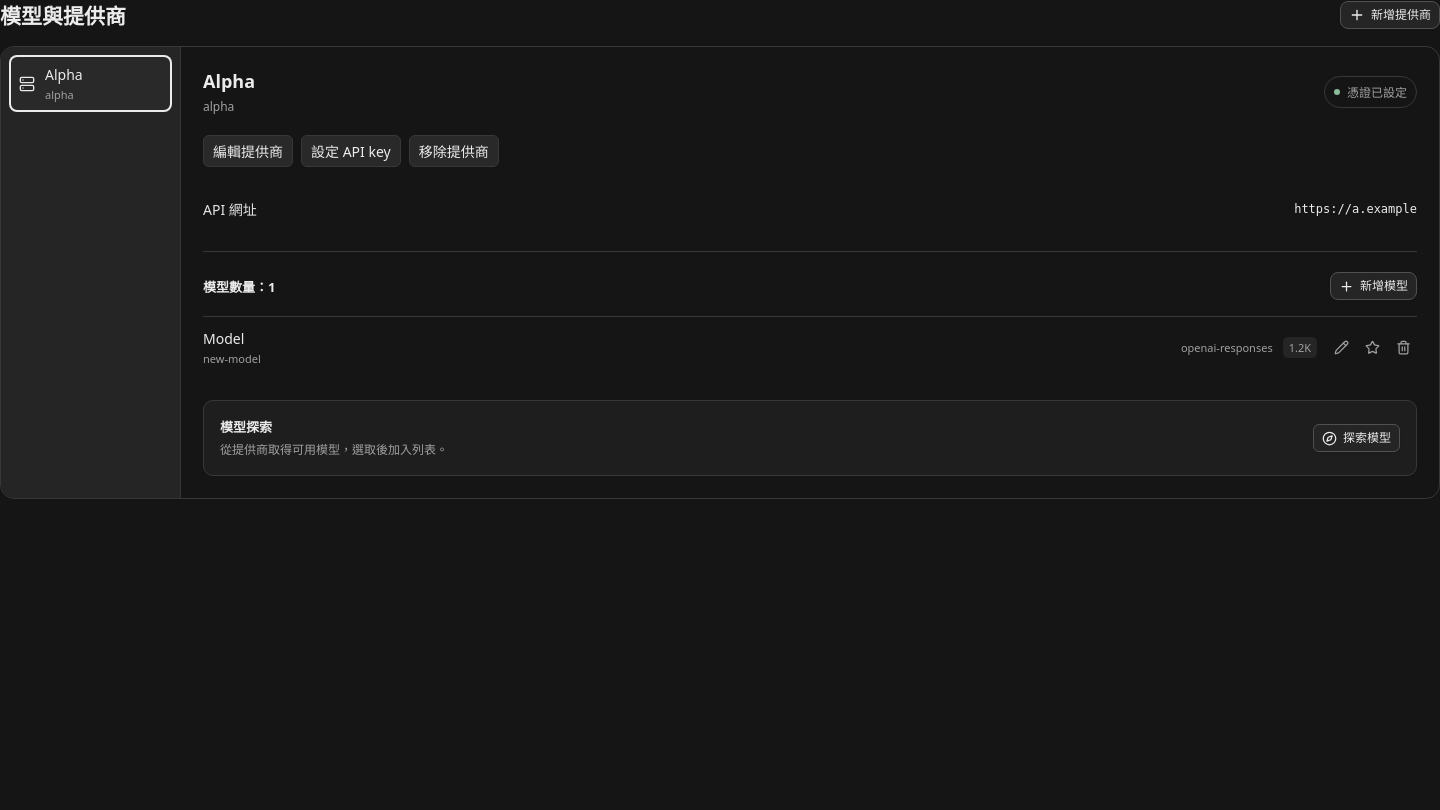
Test: separates a new model draft from an existing model with the same editor label
This screenshot has width=1440, height=810.
Check: the text "new-model" is shown, box 203,351 -> 261,366
Step 1. Click the button "新增模型" → (1374, 286), box 1330,272 -> 1417,300
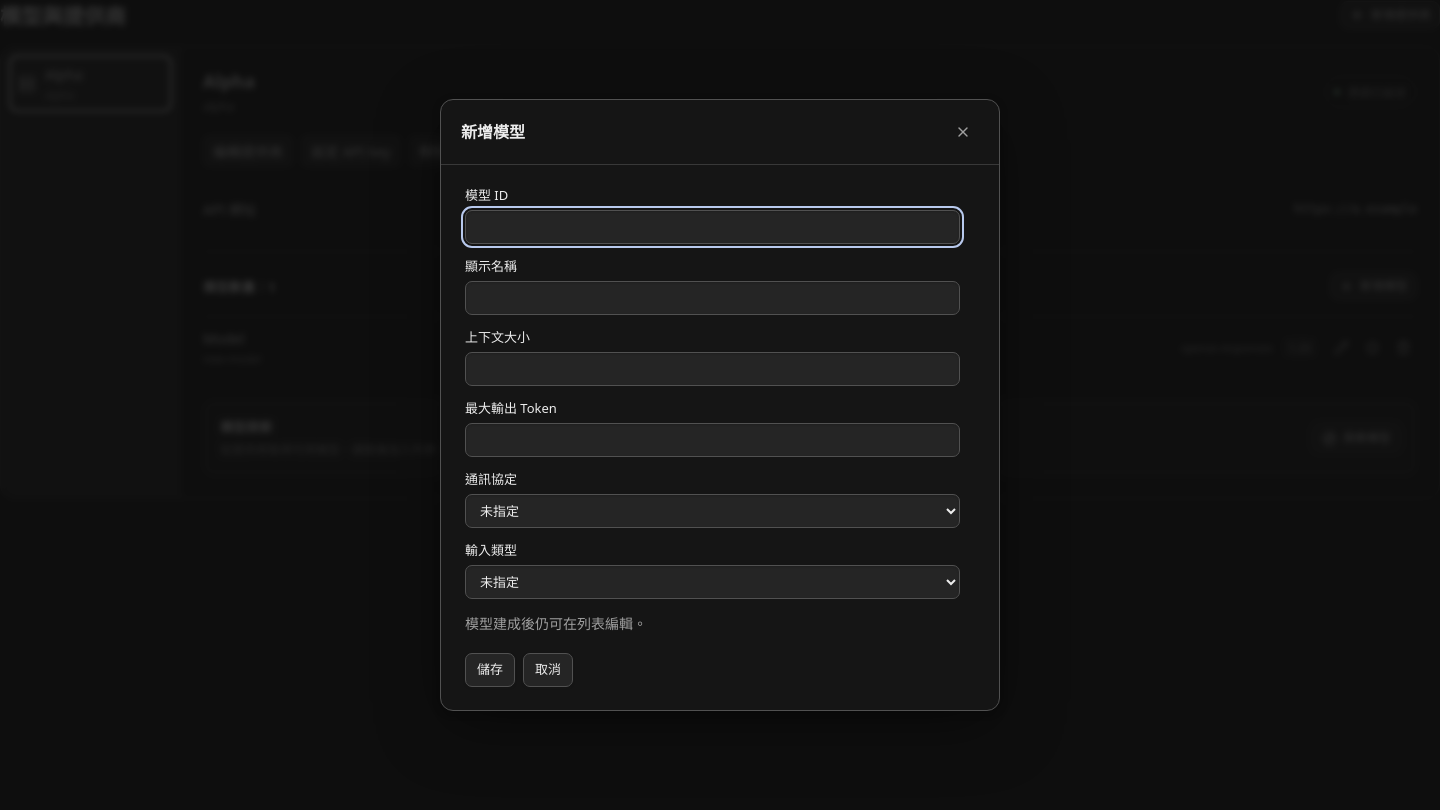
Step 2. Type "new-draft" into the field labelled "模型 ID" → (712, 226), box 465,210 -> 960,244
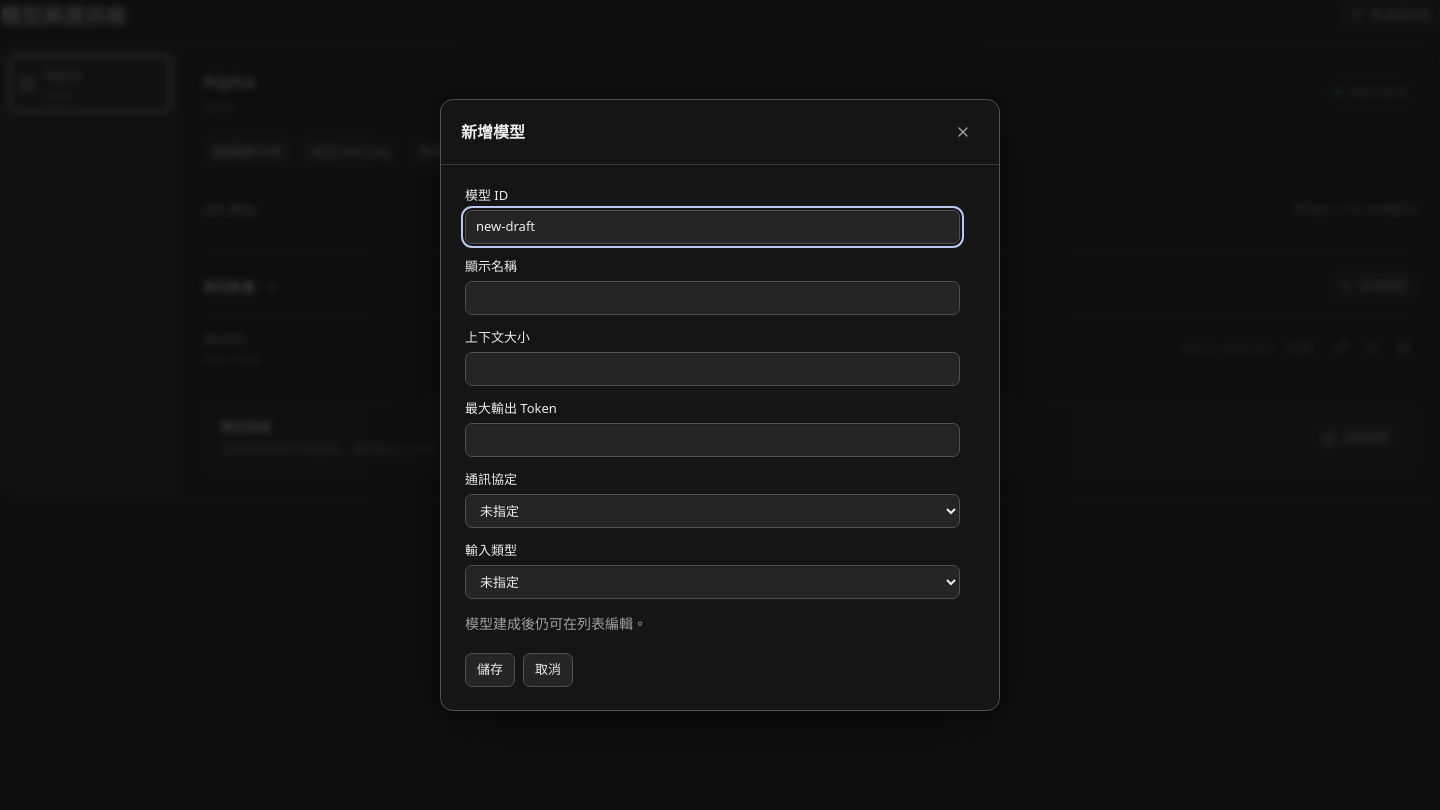
Step 3. Type "9000" into the number field labelled "上下文大小" → (712, 368), box 465,352 -> 960,386
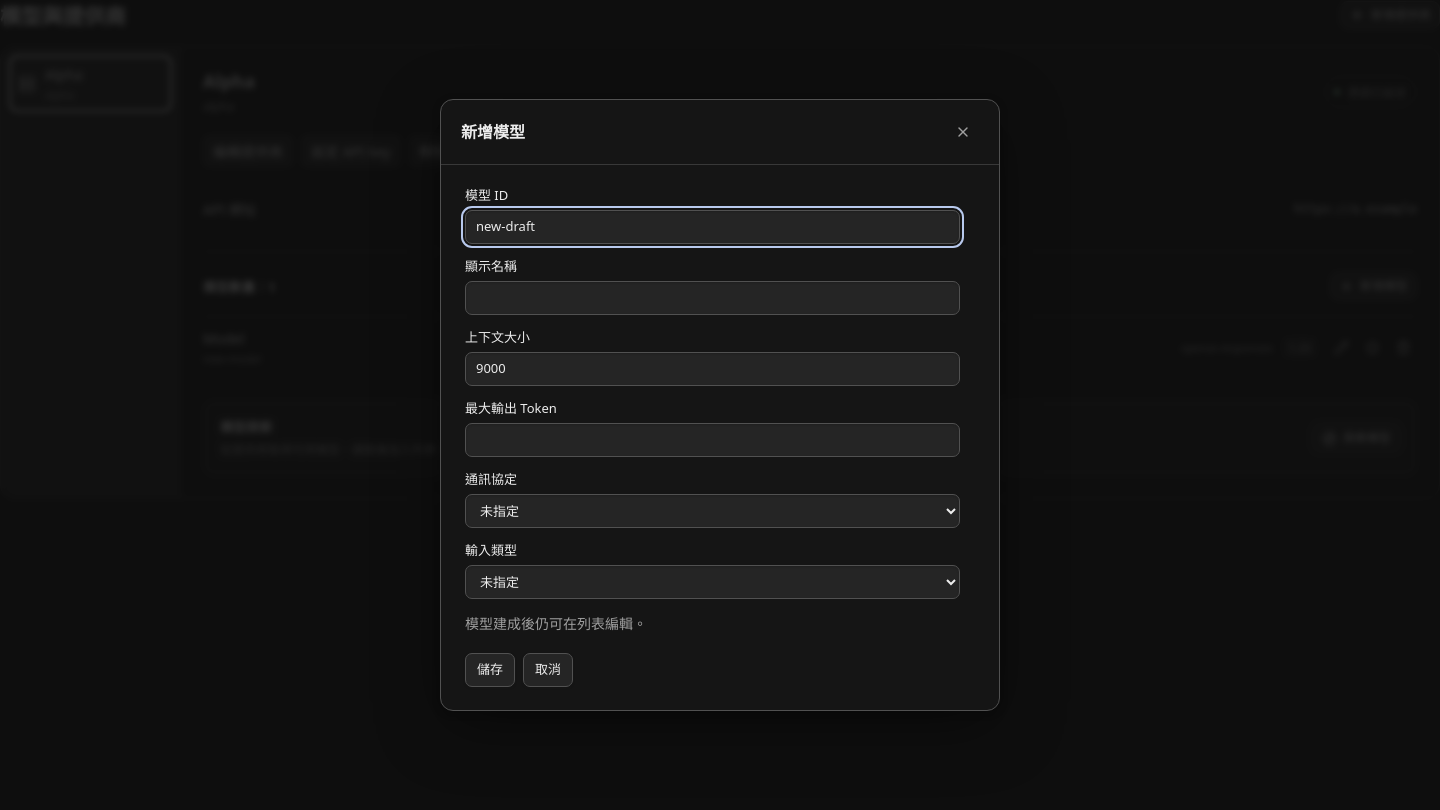
Step 4. Click the button named "關閉對話框" → (963, 132), box 947,116 -> 979,148
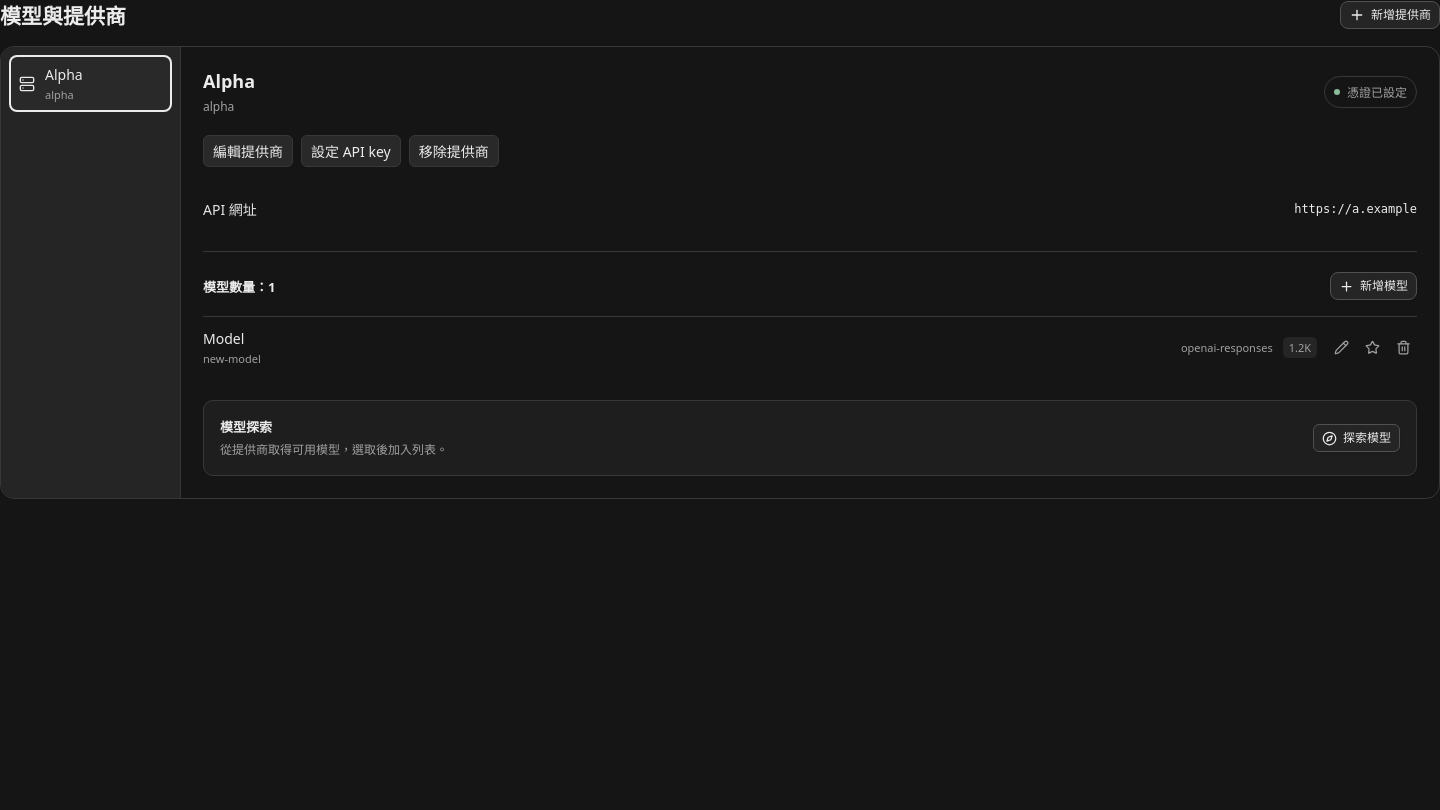
Step 5. Click the button named "編輯模型" → (1341, 348), box 1327,334 -> 1355,362
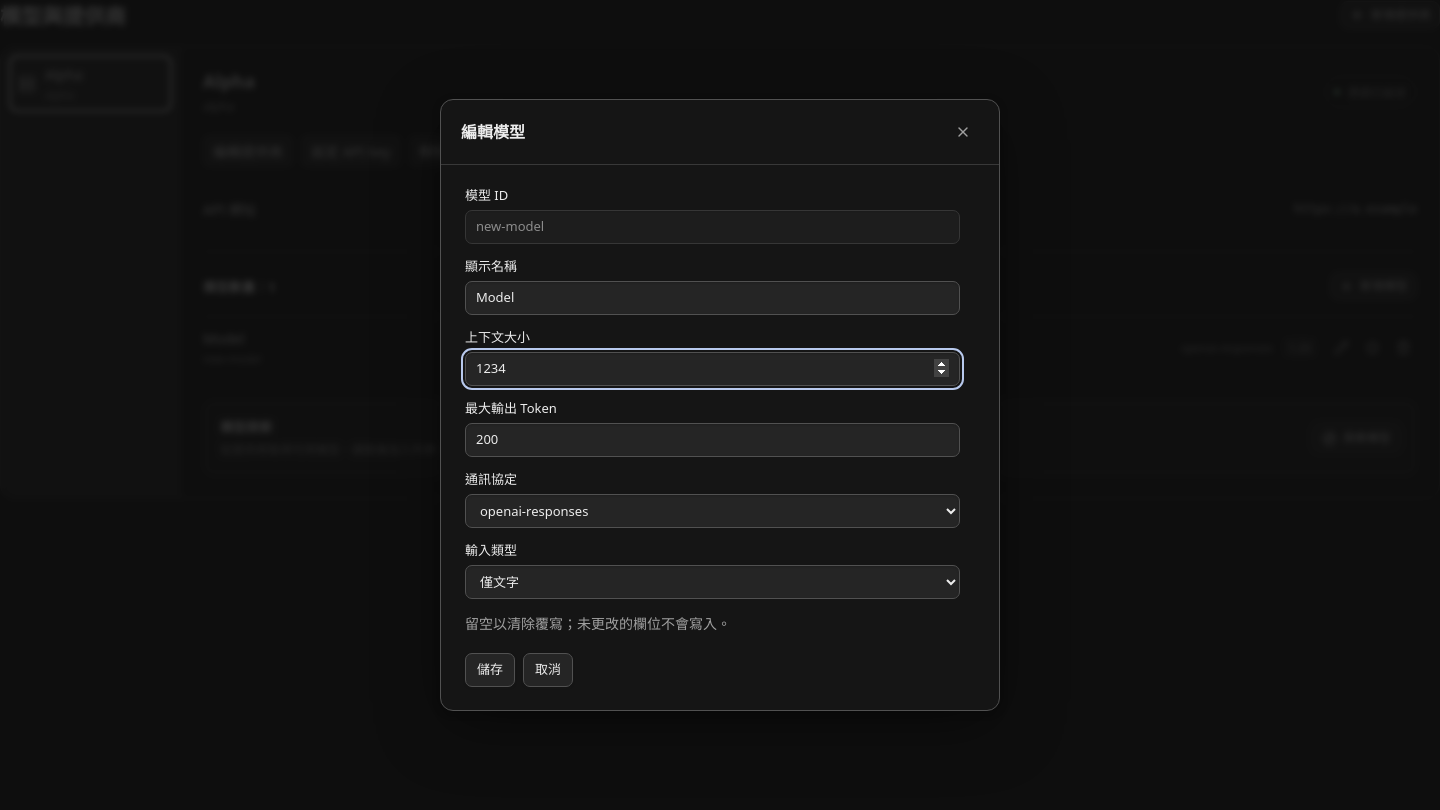
Check: the field labelled "模型 ID" holds "new-model", box 465,210 -> 960,244
Check: the number field labelled "上下文大小" holds "1234", box 465,352 -> 960,386
